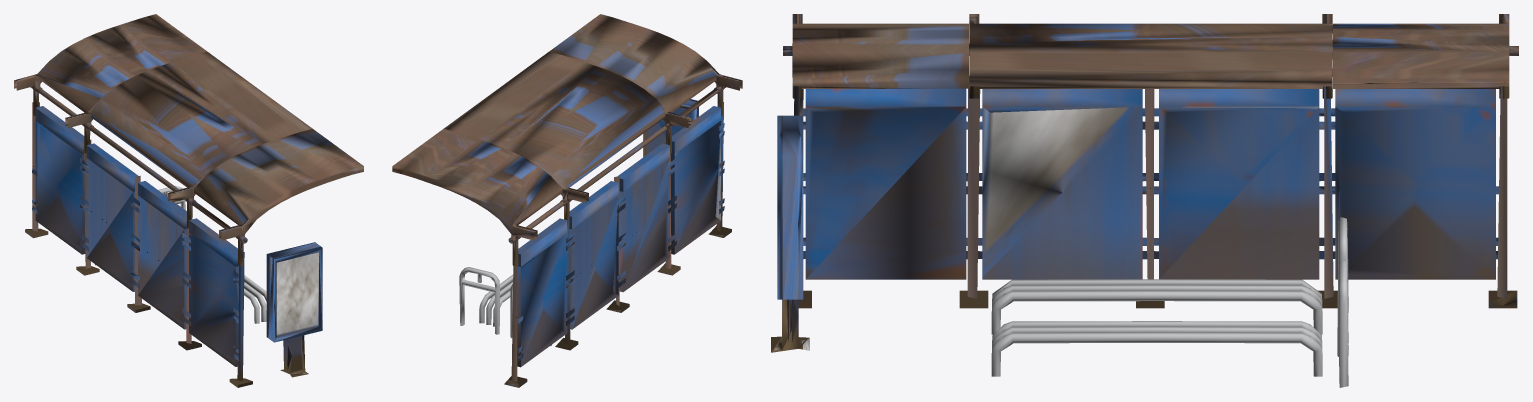
File: pr_bstop.glb
3 views of the same model, side by side, from view 1: azimuth 30°, elevation 25°; view 2: azimuth 150°, elevation 25°; view 3: azimuth 270°, elevation 25° (orthographic). The views are drawn at different scales.
Visible parts, largest first — view 1: body|Roof, body|Walls, body|material, body|Things, body|Seats; view 2: body|Roof, body|Walls, body|Things, body|Seats, body|material; view 3: body|Walls, body|Roof, body|Seats, body|material, body|Things.
Boxes of the visible parts, x1,y1,x2,y2 form: body|Roof: (14,14,363,265); body|Walls: (32,102,244,381); body|material: (266,242,322,377); body|Things: (25,158,252,387); body|Seats: (95,186,266,323); body|Roof: (392,14,742,265); body|Walls: (511,102,723,381); body|Things: (504,123,731,387); body|Seats: (459,267,551,346); body|material: (643,99,698,157); body|Walls: (794,76,1507,298); body|Roof: (783,14,1518,98); body|Seats: (991,217,1348,387); body|material: (771,115,809,352); body|Things: (798,108,1517,308).
Bounding box in the file's own units: 2.46 × 3.12 × 6.5.
5 materials, 5 textured.
